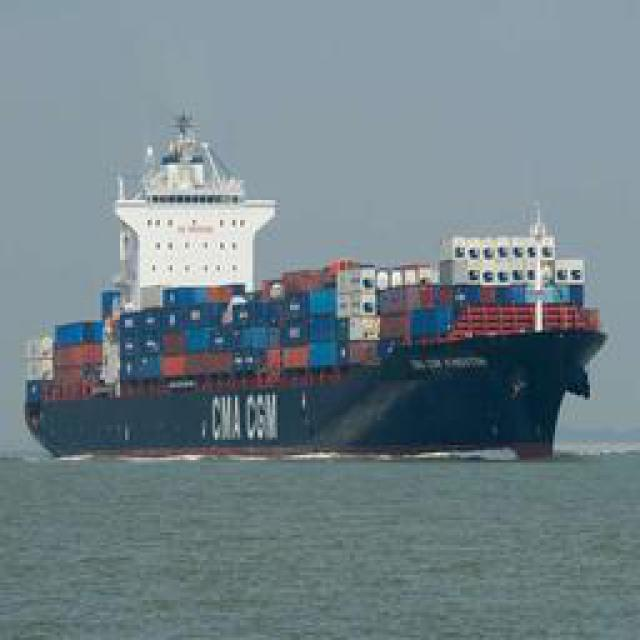Ship: (16, 111, 601, 461)
